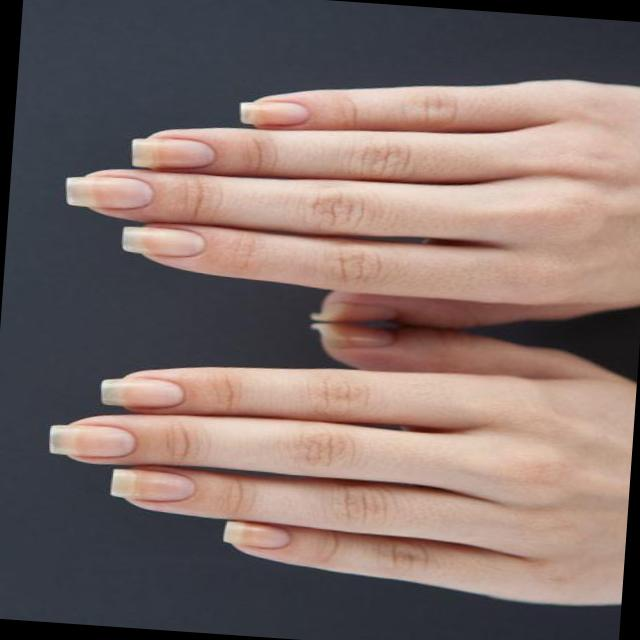Nail: (48, 424, 134, 457), (64, 176, 152, 208), (120, 224, 204, 257), (109, 468, 193, 501), (130, 138, 213, 168), (100, 378, 183, 407), (309, 323, 393, 347), (309, 302, 395, 323), (222, 520, 286, 548), (239, 102, 307, 125)
